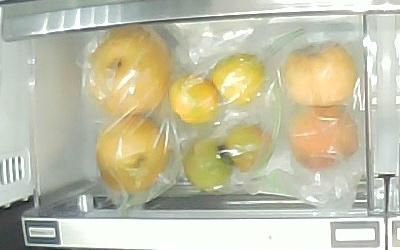peach_vinyl: (284, 42, 356, 108), (288, 106, 359, 170)
pear_vinyl: (89, 26, 170, 115), (96, 114, 170, 193)
tangerine_vinyl: (212, 53, 265, 106), (170, 74, 221, 124)
tomato_vinyl: (183, 137, 234, 190), (225, 125, 275, 172)
